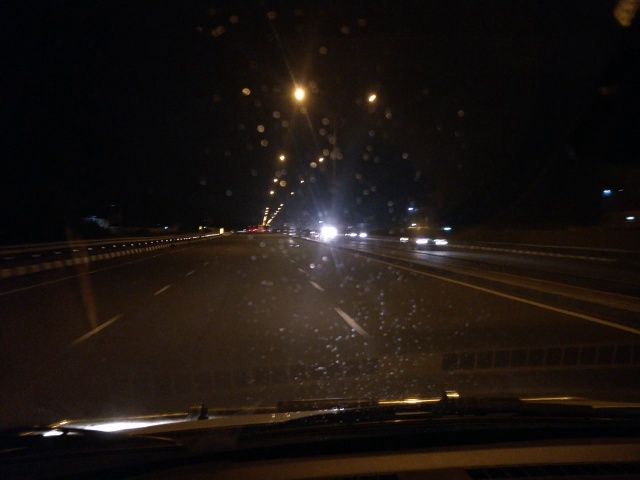car: (401, 219, 463, 253)
